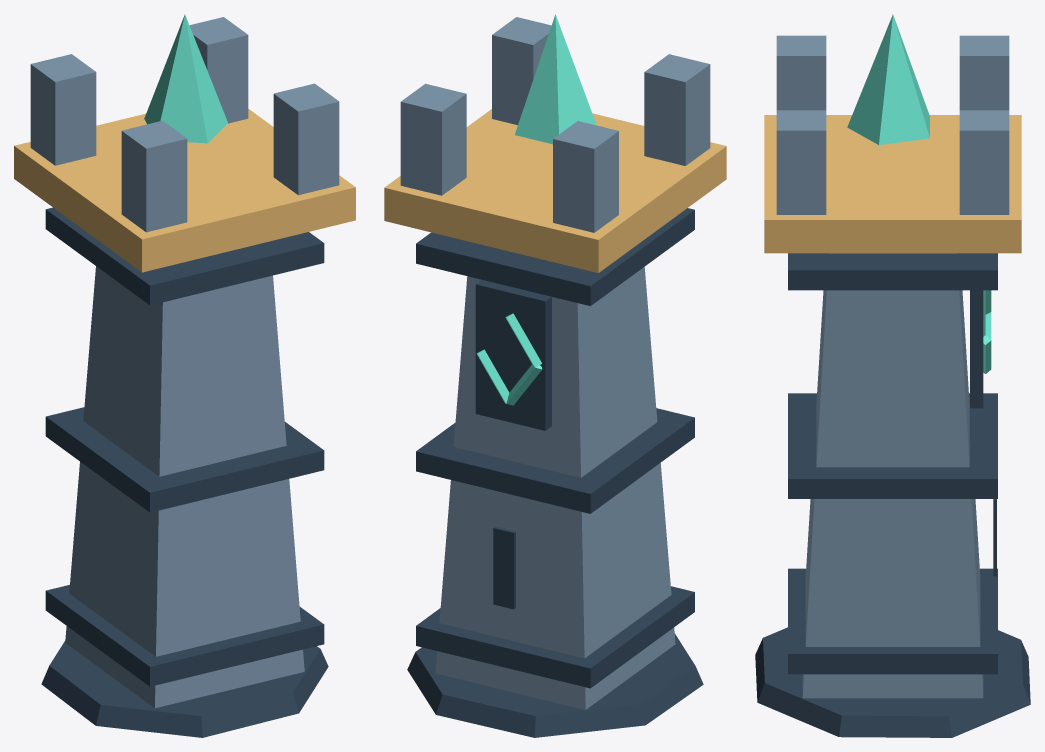
Rendered from PassTower.fbx.
3 renders of one model, left to right at view 1: azimuth 30°, elevation 25°; view 2: azimuth 150°, elevation 25°; view 3: azimuth 270°, elevation 25°, orthographic.
Visible parts, largest first — view 1: PassTower; view 2: PassTower; view 3: PassTower.
Part boxes in pixels (left/top/right/bottom): PassTower: left=14, top=14, right=355, bottom=737; PassTower: left=384, top=14, right=726, bottom=737; PassTower: left=755, top=14, right=1030, bottom=737.
Size of the model in its own units: 1.5 by 4 by 1.5.
